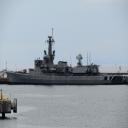Fragata: (6, 32, 126, 86)
